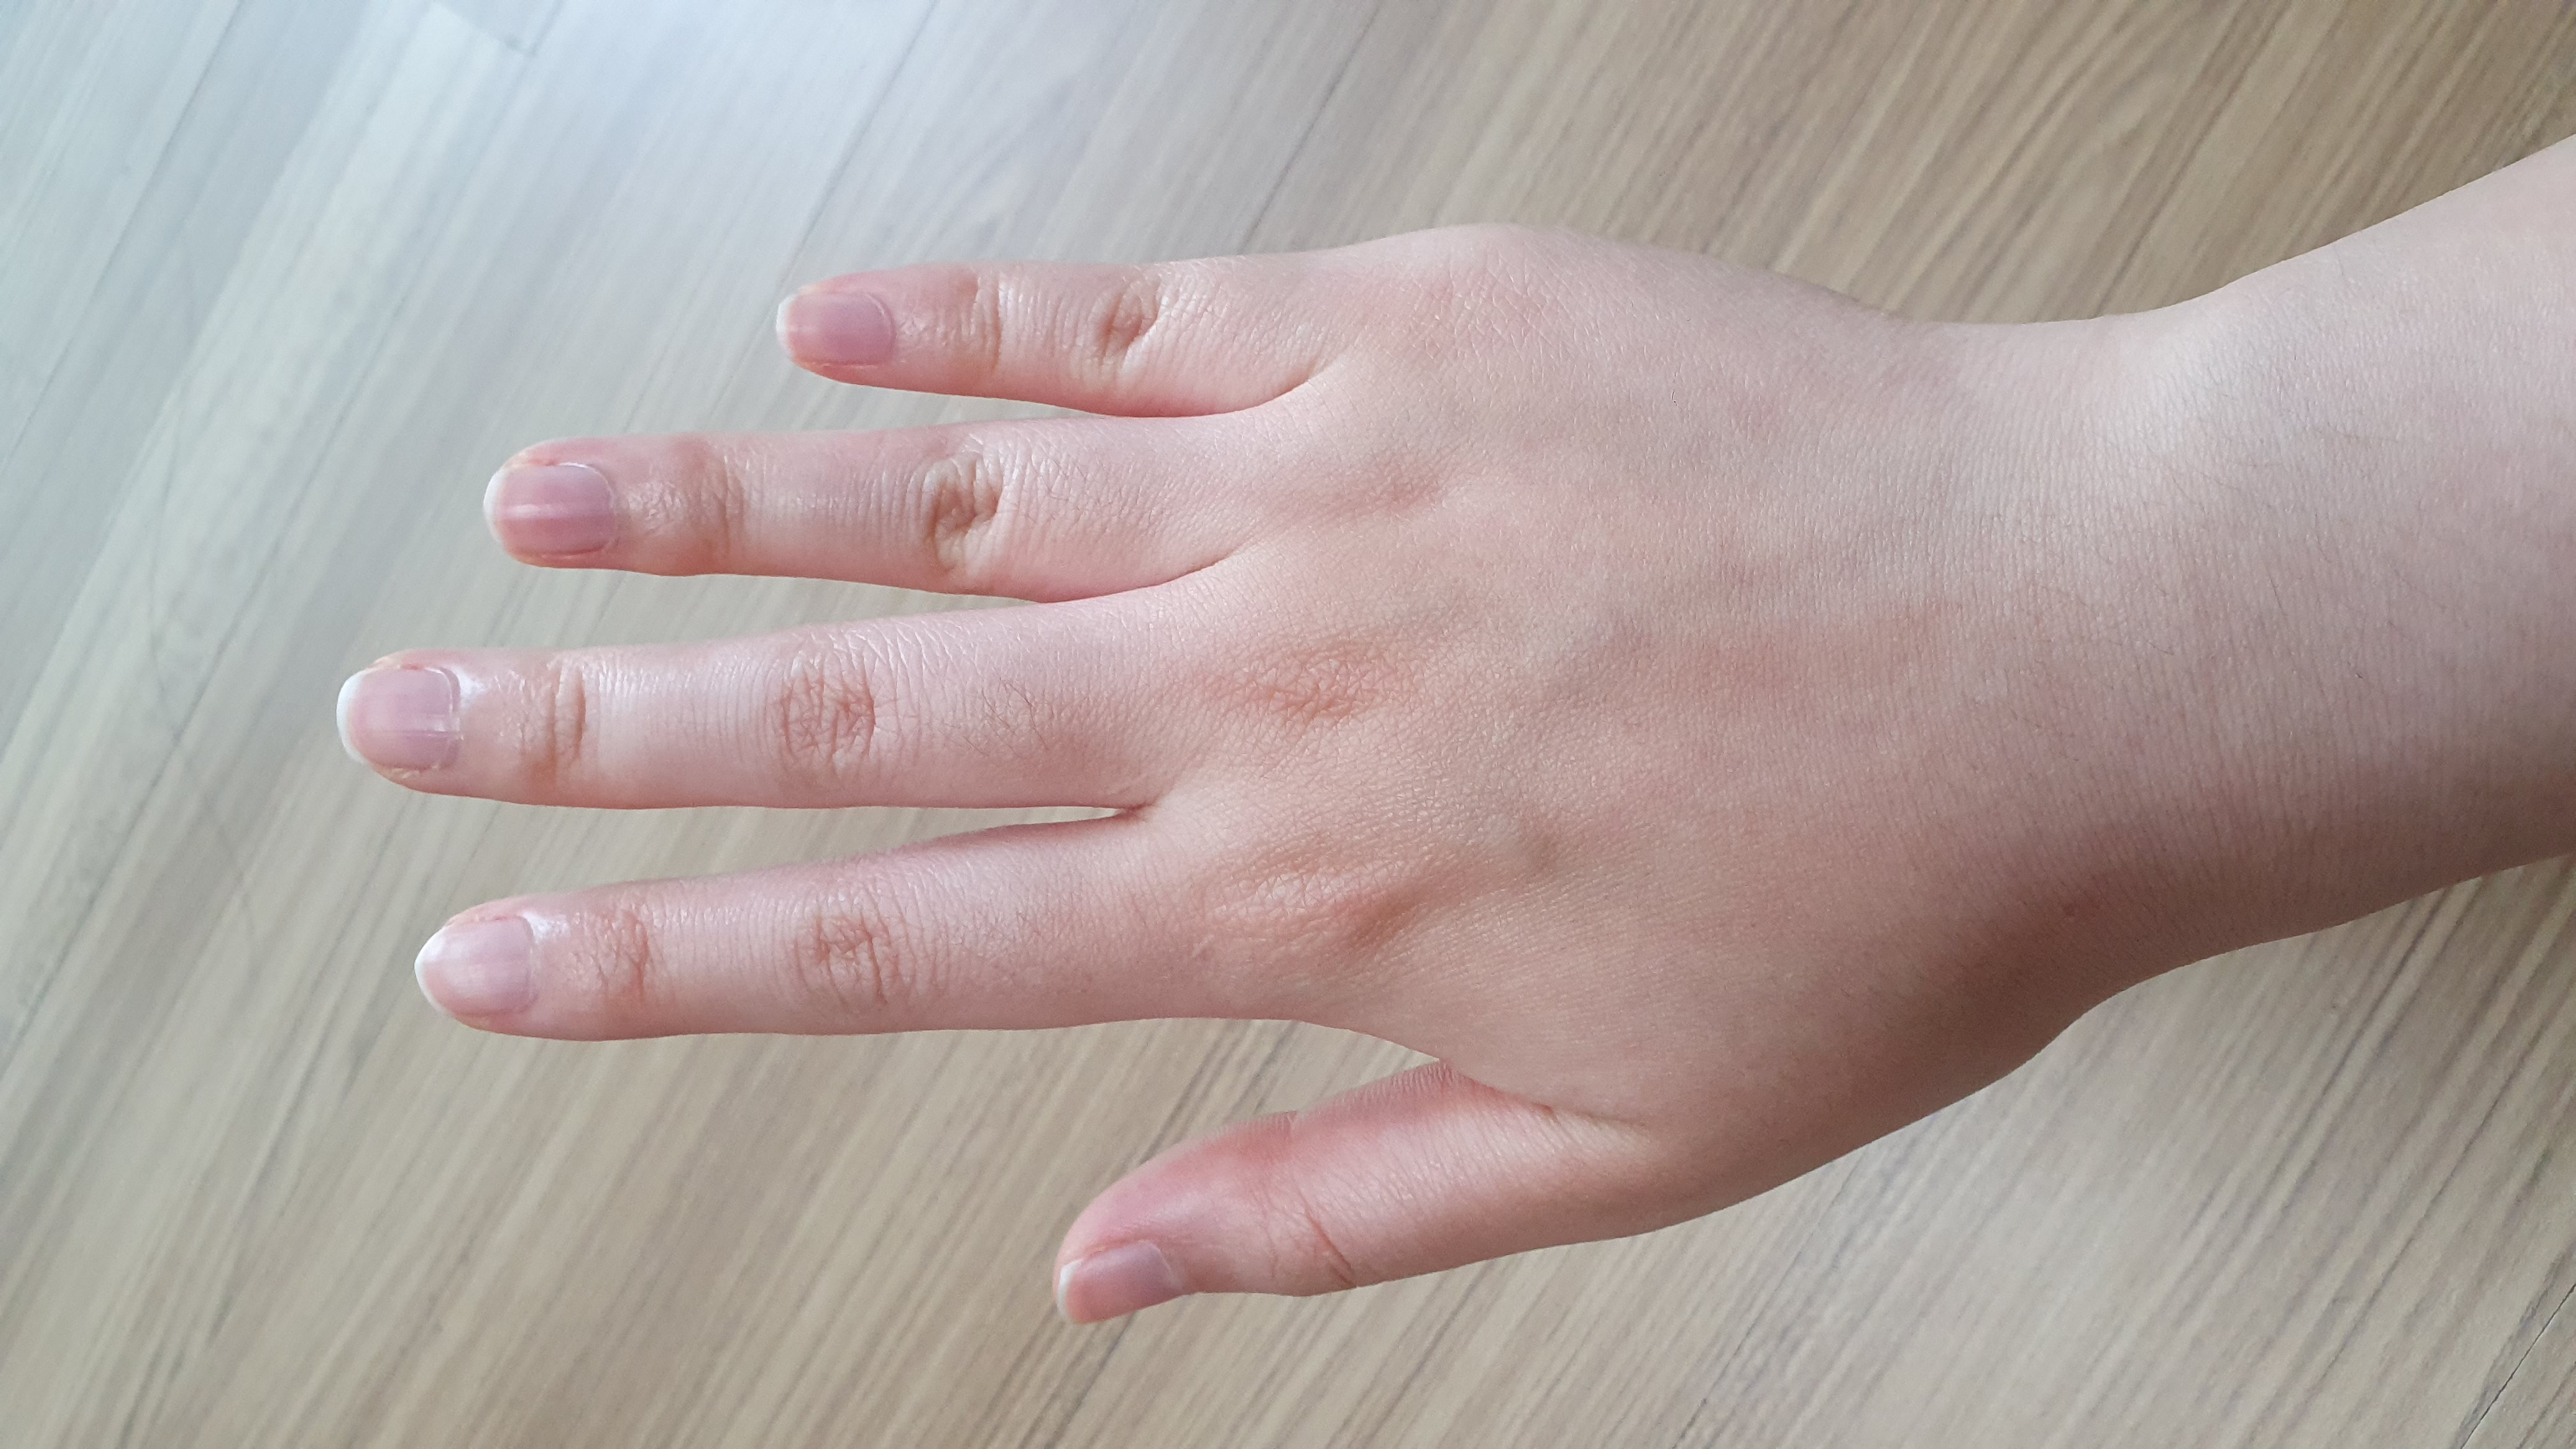backhand: (1237, 285, 2072, 1097)
hand: (331, 230, 2065, 1338)
index finger: (410, 823, 1261, 1058)
middle finger: (306, 603, 1132, 817)
pinky: (766, 241, 1302, 416)
ring finger: (474, 405, 1189, 586)
thumb: (1053, 1072, 1591, 1346)
